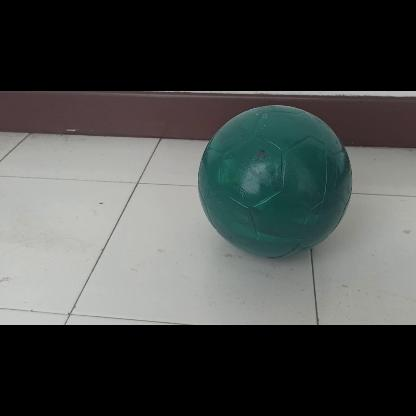green_ball: (200, 105, 352, 257)
